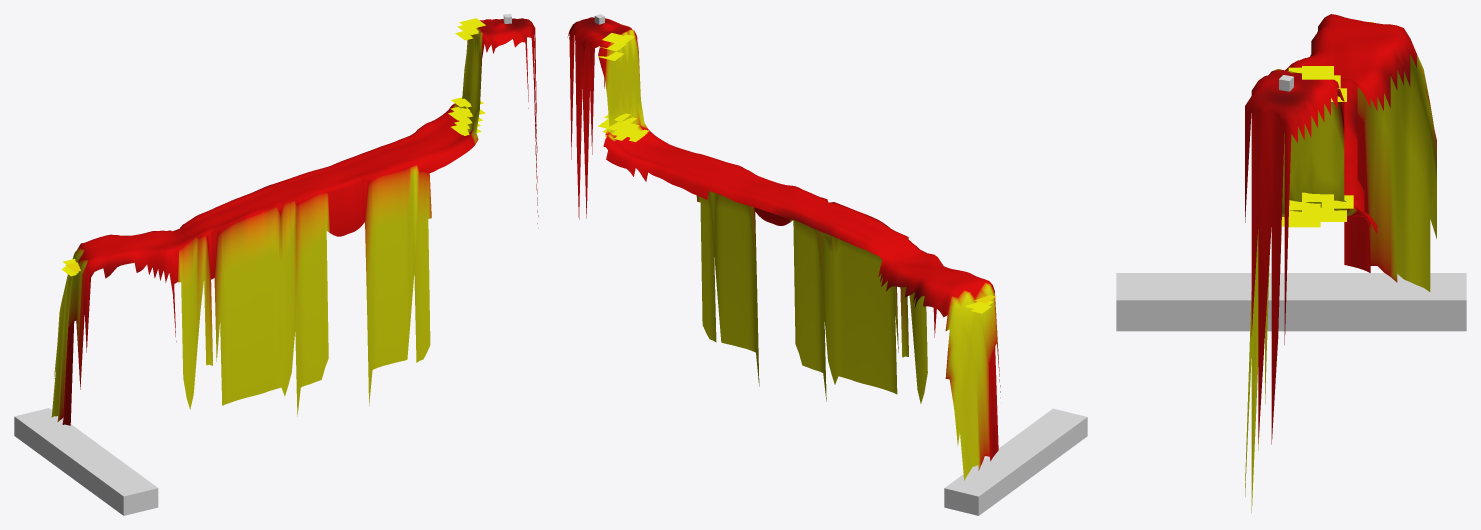
The model's file is floor-02-waterfall-01.fbx.
3 views of the same model, side by side, from view 1: azimuth 30°, elevation 25°; view 2: azimuth 150°, elevation 25°; view 3: azimuth 270°, elevation 25° (orthographic). The views are drawn at different scales.
Visible parts, largest first — view 1: waterfall-01-fluid, Cube.001; view 2: waterfall-01-fluid, Cube.001; view 3: waterfall-01-fluid, Cube.001.
Boxes of the visible parts, x1,y1,x2,y2 form: waterfall-01-fluid: [51, 18, 538, 425]; Cube.001: [14, 408, 158, 515]; waterfall-01-fluid: [567, 17, 1000, 480]; Cube.001: [944, 408, 1087, 515]; waterfall-01-fluid: [1245, 14, 1436, 512]; Cube.001: [1116, 273, 1466, 331].
Size of the model in its own units: 2690 by 1955 by 1094.
